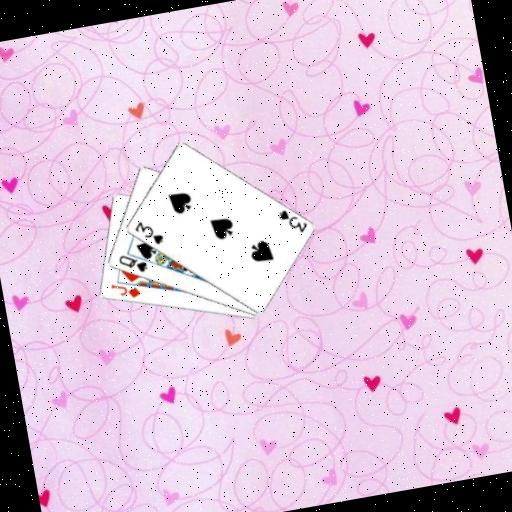3S: (130, 215, 165, 250), (274, 203, 309, 238)
JD: (106, 277, 142, 304)
QS: (114, 247, 149, 277)
